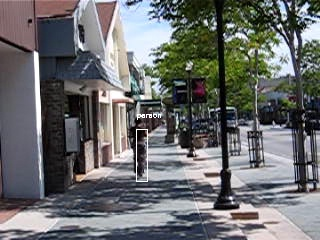person: (130, 116, 149, 176), (129, 116, 148, 176), (131, 116, 150, 176), (130, 115, 149, 175), (130, 117, 149, 177)
target_negative: (95, 3, 302, 46), (234, 189, 312, 205), (222, 196, 254, 221), (242, 178, 318, 183), (153, 45, 161, 83), (210, 235, 237, 240)
